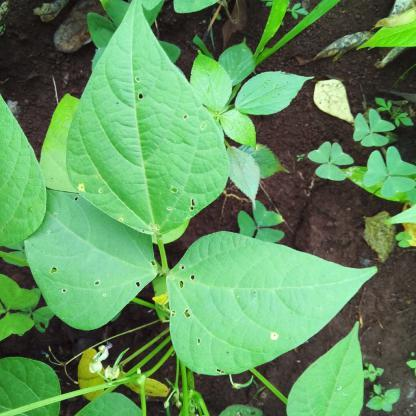Beans_Rust: (64, 1, 229, 238), (163, 231, 377, 369), (24, 190, 160, 333)
